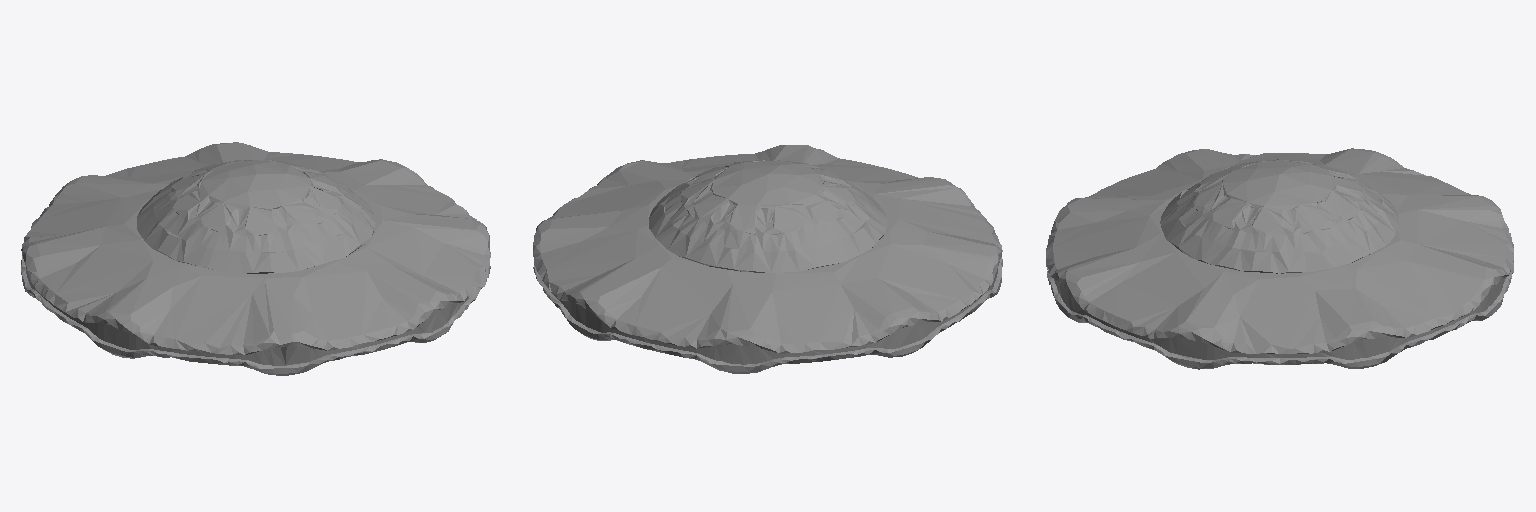
The model's file is frame_065.obj.
3 views of the same model, side by side, from view 1: azimuth 30°, elevation 25°; view 2: azimuth 150°, elevation 25°; view 3: azimuth 270°, elevation 25° (orthographic).
Visible parts, largest first — view 1: 13884_UFO_Saucer_v1_l2; view 2: 13884_UFO_Saucer_v1_l2; view 3: 13884_UFO_Saucer_v1_l2.
Boxes of the visible parts, x1=… form: 13884_UFO_Saucer_v1_l2: x1=21, y1=142, x2=490, y2=375; 13884_UFO_Saucer_v1_l2: x1=533, y1=145, x2=1002, y2=373; 13884_UFO_Saucer_v1_l2: x1=1046, y1=148, x2=1513, y2=369.
Size of the model in its own units: 12.69 by 4.88 by 12.7.